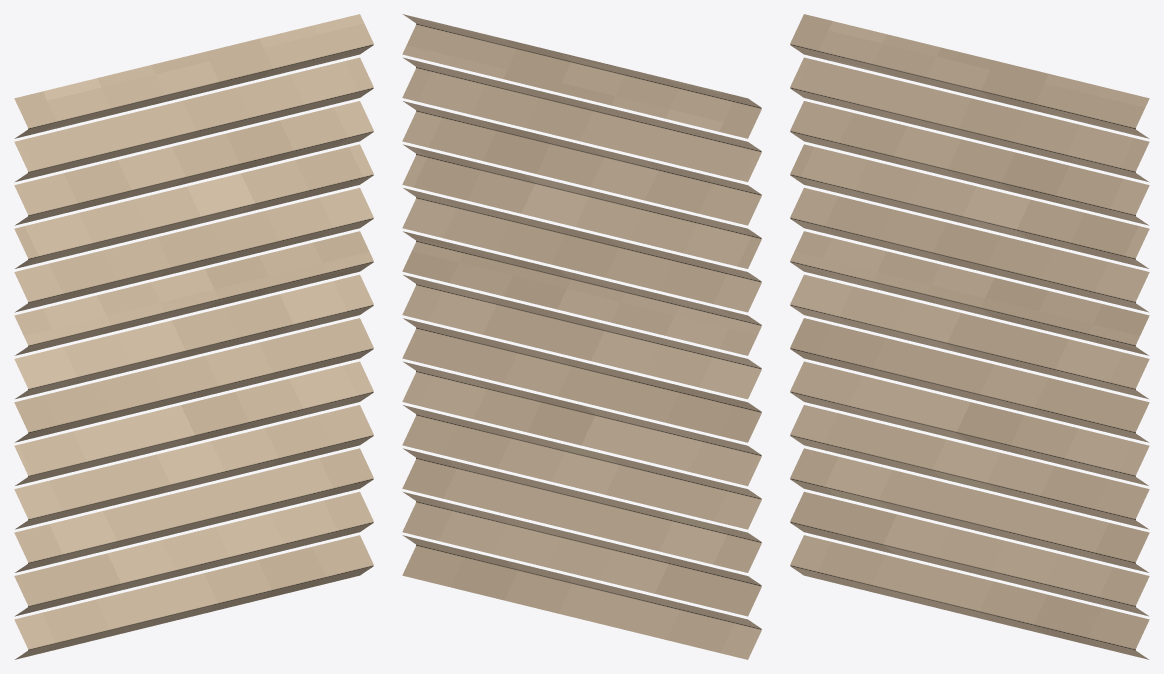
File: Corrugation.glb
3 renders of one model, left to right at view 1: azimuth 30°, elevation 25°; view 2: azimuth 150°, elevation 25°; view 3: azimuth 330°, elevation 25°, orthographic.
Visible parts, largest first — view 1: Corrugation; view 2: Corrugation; view 3: Corrugation.
Part boxes in pixels (left/top/right/bottom): Corrugation: left=14, top=14, right=373, bottom=659; Corrugation: left=402, top=14, right=761, bottom=659; Corrugation: left=790, top=14, right=1149, bottom=659.
Size of the model in its own units: 0.25 by 0.388 by 0.0172.
1 material, 1 textured.
